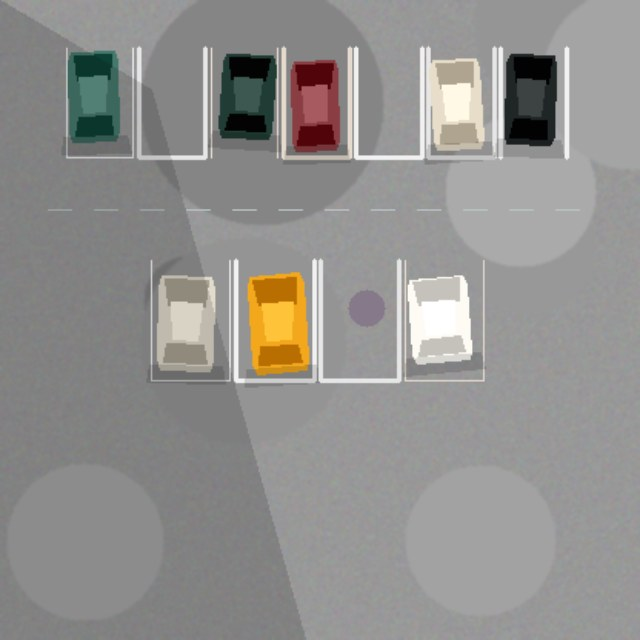space-empty: (320, 260, 398, 380), (138, 48, 205, 157), (355, 48, 422, 157)
space-occupied: (235, 260, 314, 380), (151, 260, 229, 380), (405, 260, 483, 380), (66, 48, 132, 157), (211, 48, 277, 157), (283, 48, 349, 157), (428, 48, 494, 157), (500, 48, 566, 157)
